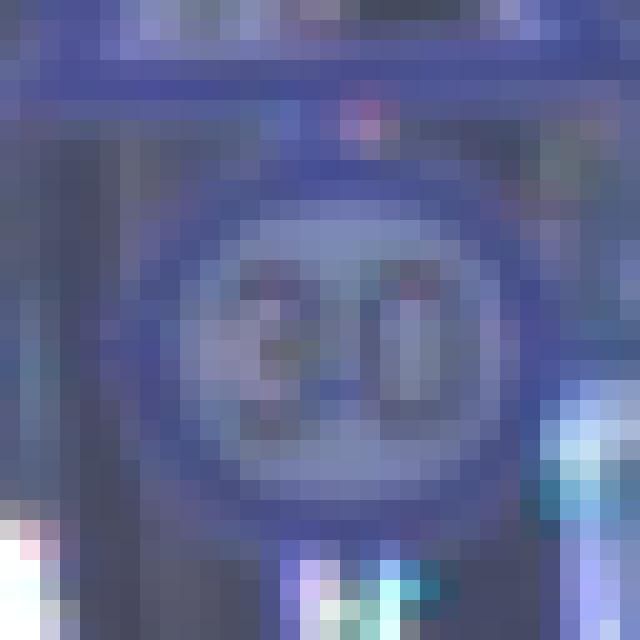SPEED LIMIT 30: (168, 189, 532, 536)
